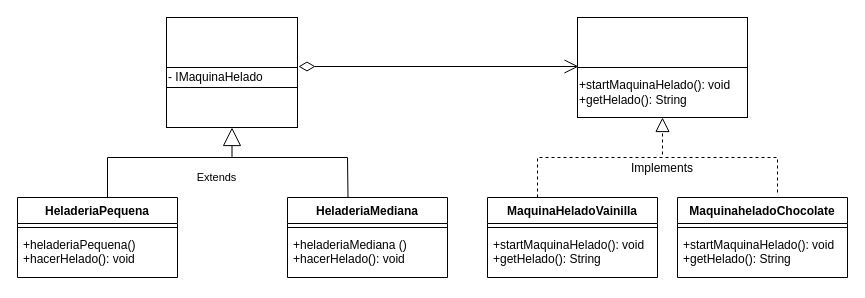
Some shapes in this 865 by 298 pixel diagram are drawn without their labels. Here are the shapes that lost their labels. From the top down, the box of each, then its label:
(166, 16, 298, 68): «Abstract» Heladeria
(576, 16, 748, 68): «interface» IMaquinaHelado
(166, 86, 298, 128): +Heladeria() +hacerHelado(): void
